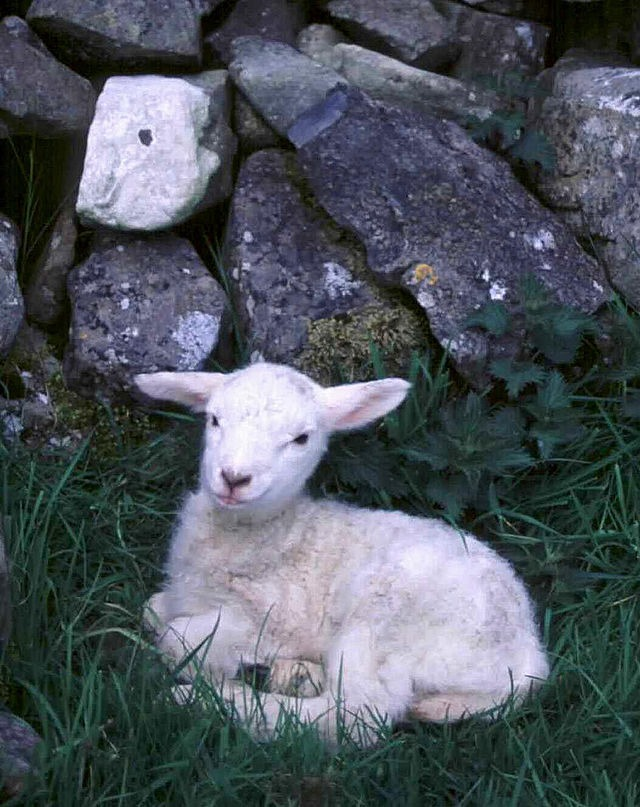resting: (129, 360, 551, 729)
